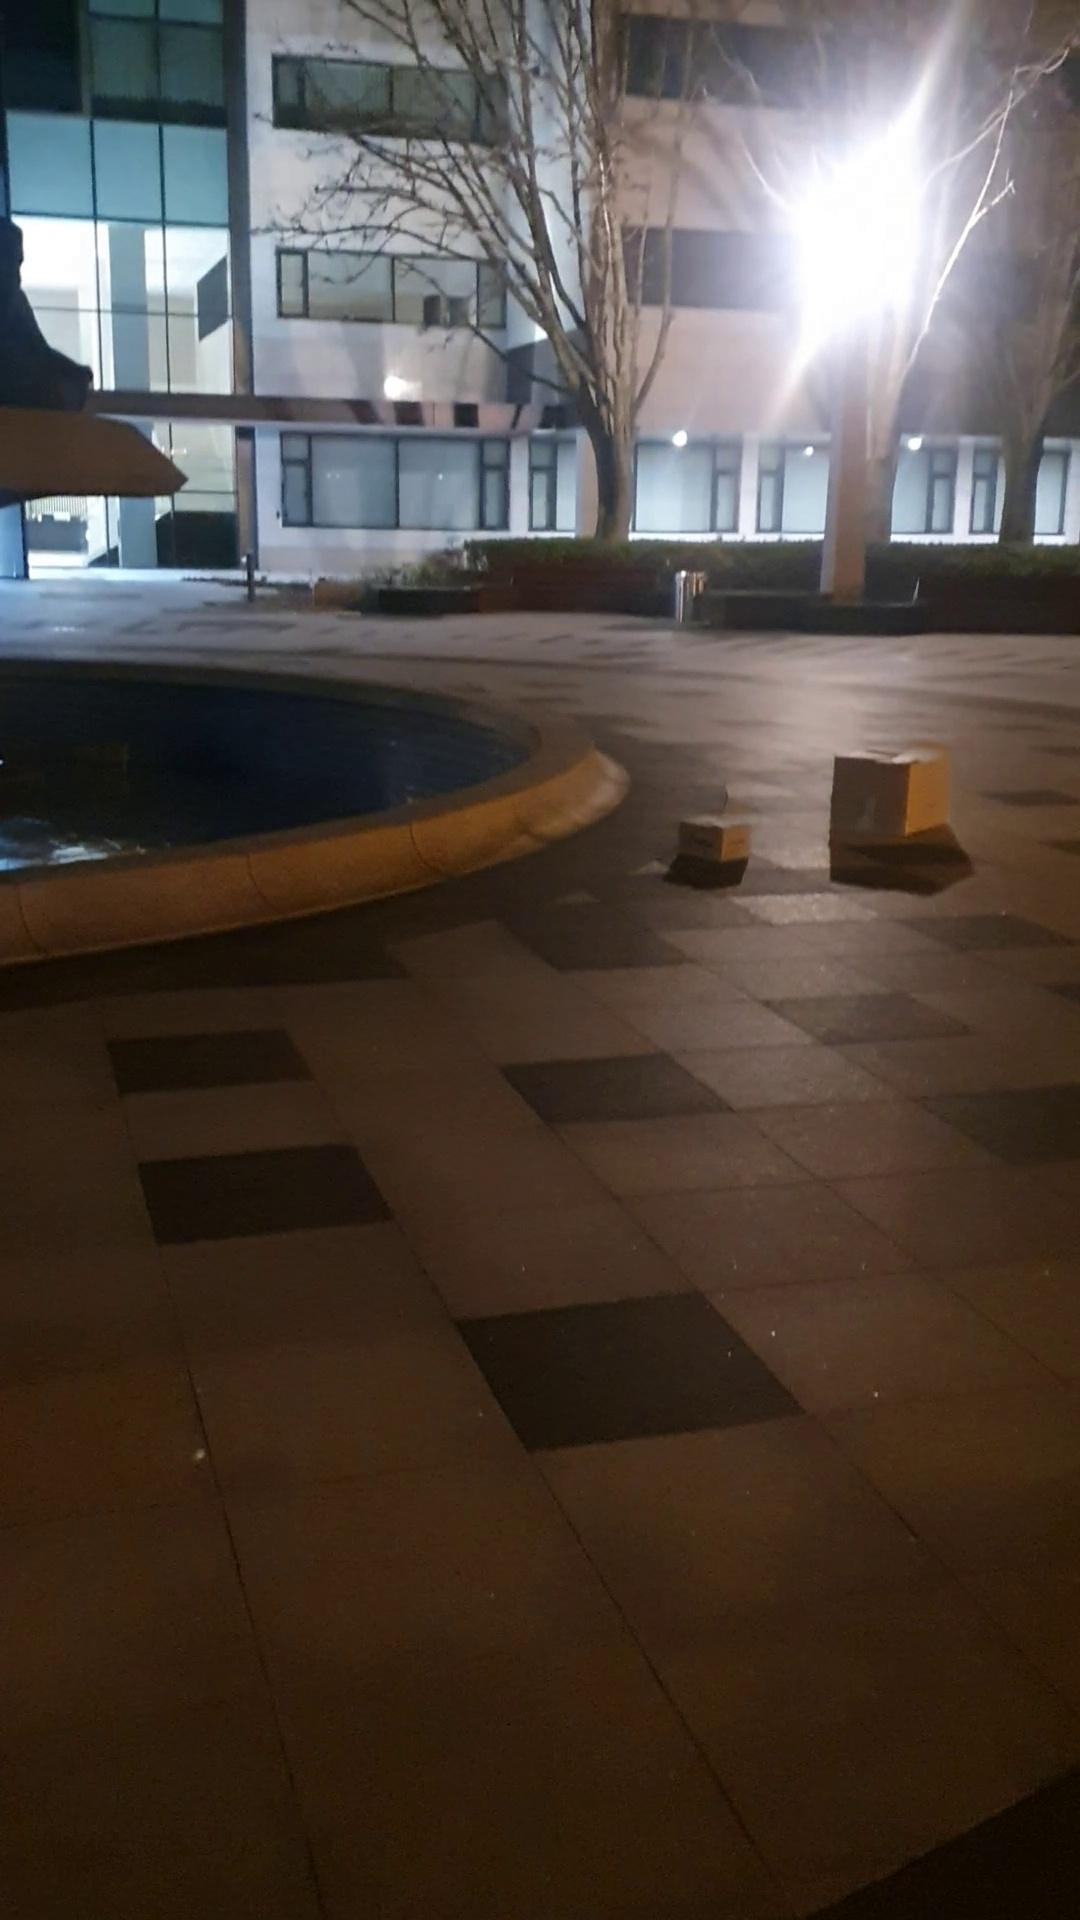Box: (831, 735, 957, 855), (676, 810, 765, 872)
